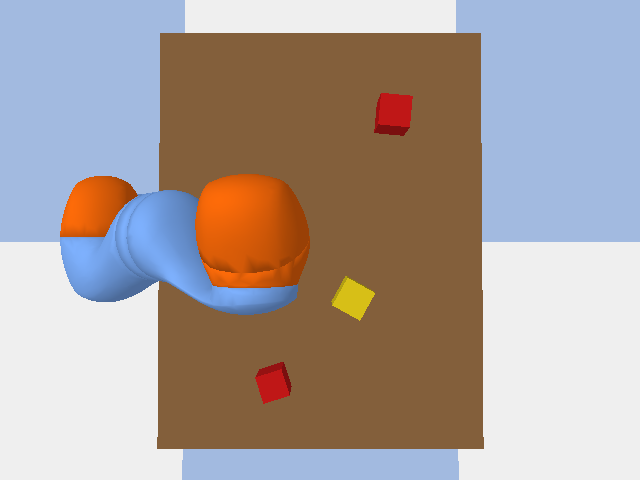red_obj: (374, 93, 412, 135), (255, 362, 291, 403)
yellow_obj: (331, 276, 374, 320)
